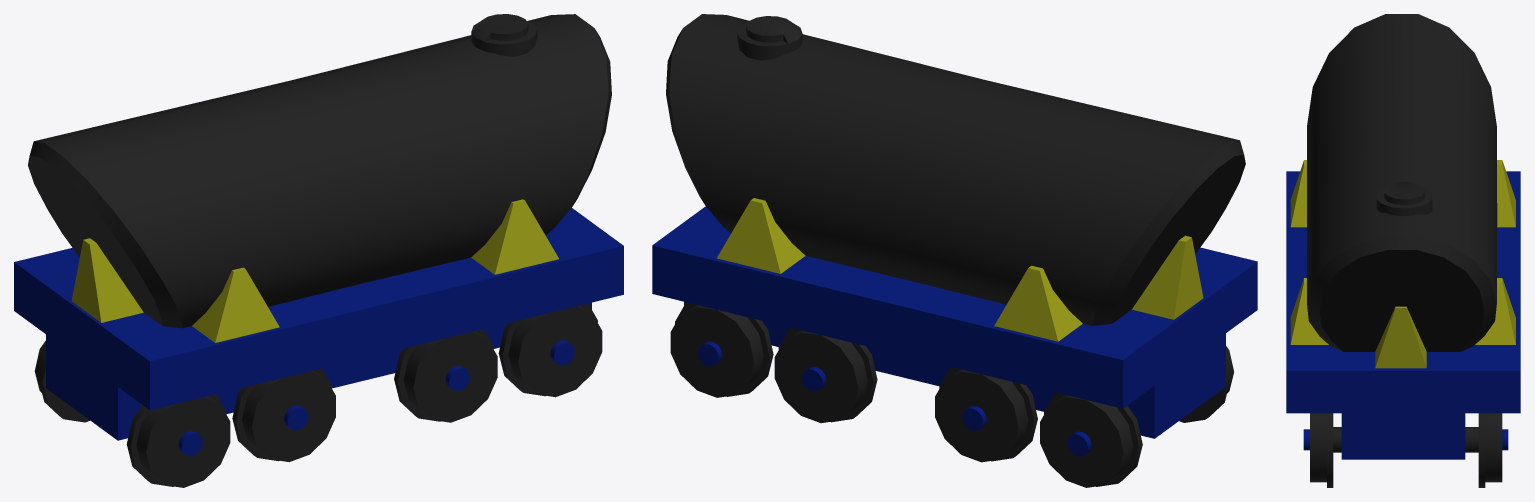
File: train2.FBX
The picture shows the model from 3 angles, left to right: view 1: azimuth 30°, elevation 25°; view 2: azimuth 150°, elevation 25°; view 3: azimuth 270°, elevation 25°; orthographic projection. The views are drawn at different scales.
Visible parts, largest first — view 1: Object001; view 2: Object001; view 3: Object001.
Boxes of the visible parts, left/top/right/bottom form: Object001: left=14, top=14, right=623, bottom=487; Object001: left=652, top=14, right=1257, bottom=487; Object001: left=1286, top=14, right=1520, bottom=487.
Bounding box in the file's own units: 72.39 × 31.32 × 43.03.
